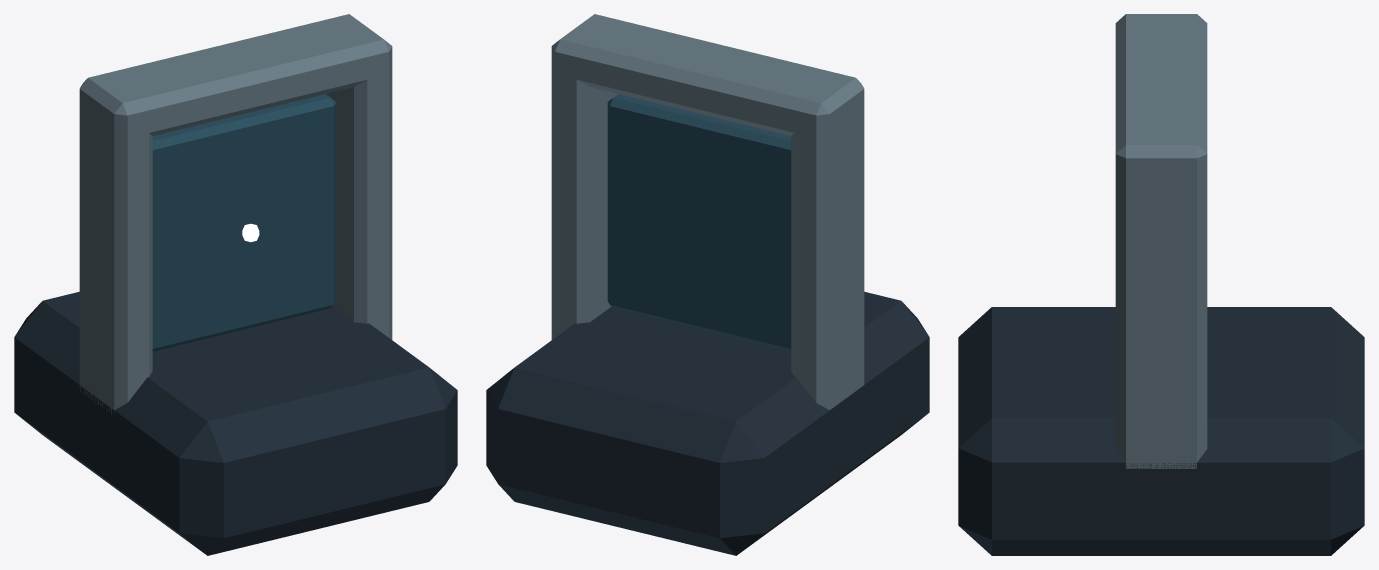
The model's file is fps-reflex-sight.lod0.glb.
3 renders of one model, left to right at view 1: azimuth 30°, elevation 25°; view 2: azimuth 150°, elevation 25°; view 3: azimuth 270°, elevation 25°, orthographic. The views are drawn at different scales.
Visible parts, largest first — view 1: fps-reflex-sight__body; view 2: fps-reflex-sight__body; view 3: fps-reflex-sight__body.
Boxes of the visible parts, x1,y1,x2,y2 form: fps-reflex-sight__body: (14,14,457,555); fps-reflex-sight__body: (486,14,929,555); fps-reflex-sight__body: (958,14,1364,555).
Size of the model in its own units: 0.065 by 0.0915 by 0.08.
